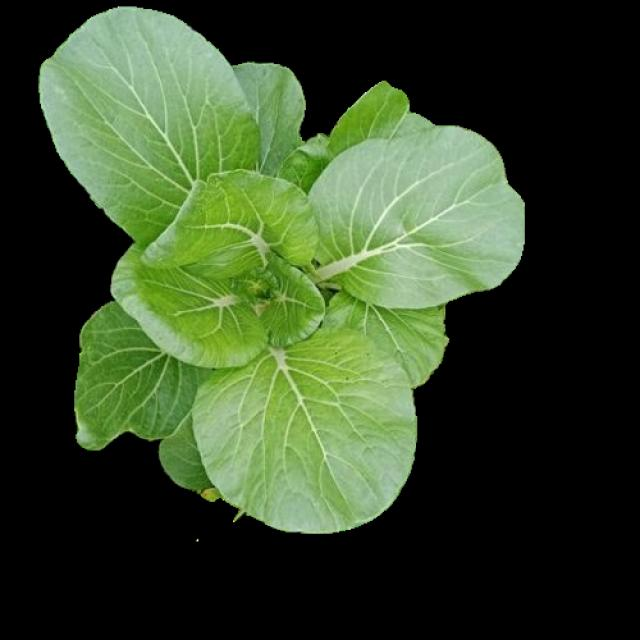healthy: (37, 6, 516, 530)
mature: (40, 9, 518, 532)
